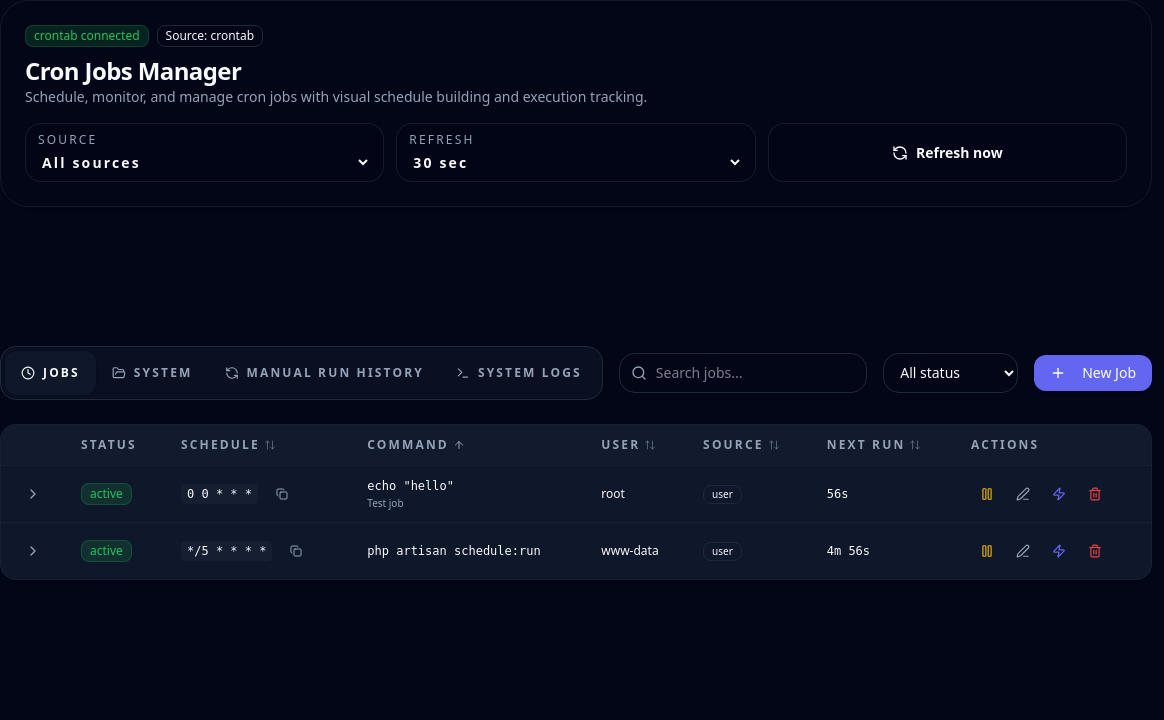
Test: CronsPage › switches to manual run tab
Click the tab "manual run history": (324, 372) [208,350,440,394]
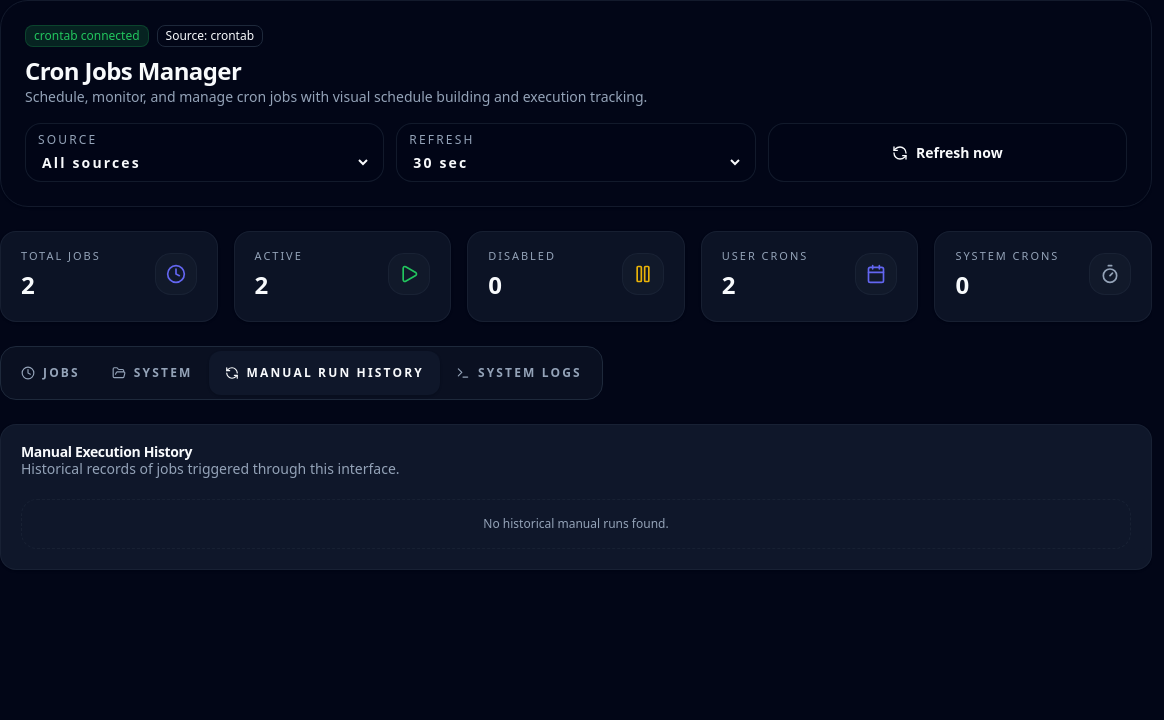
Expected: the heading "Manual Execution History" is shown, [21,442,192,460]
